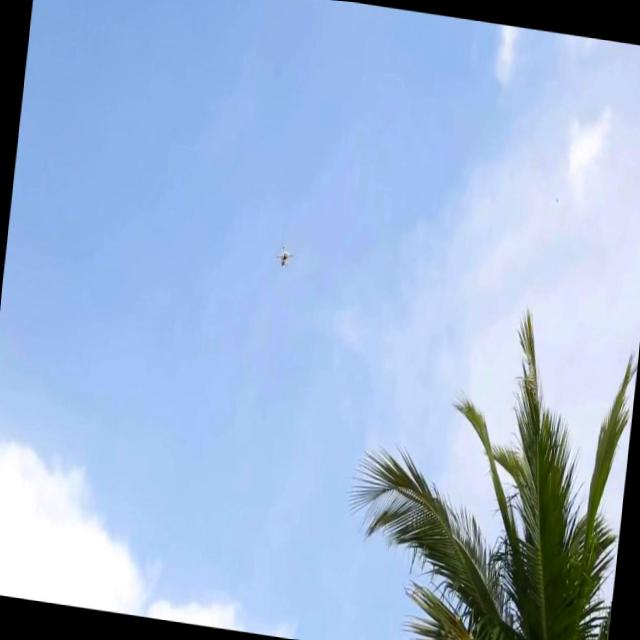drone: (272, 240, 294, 271)
